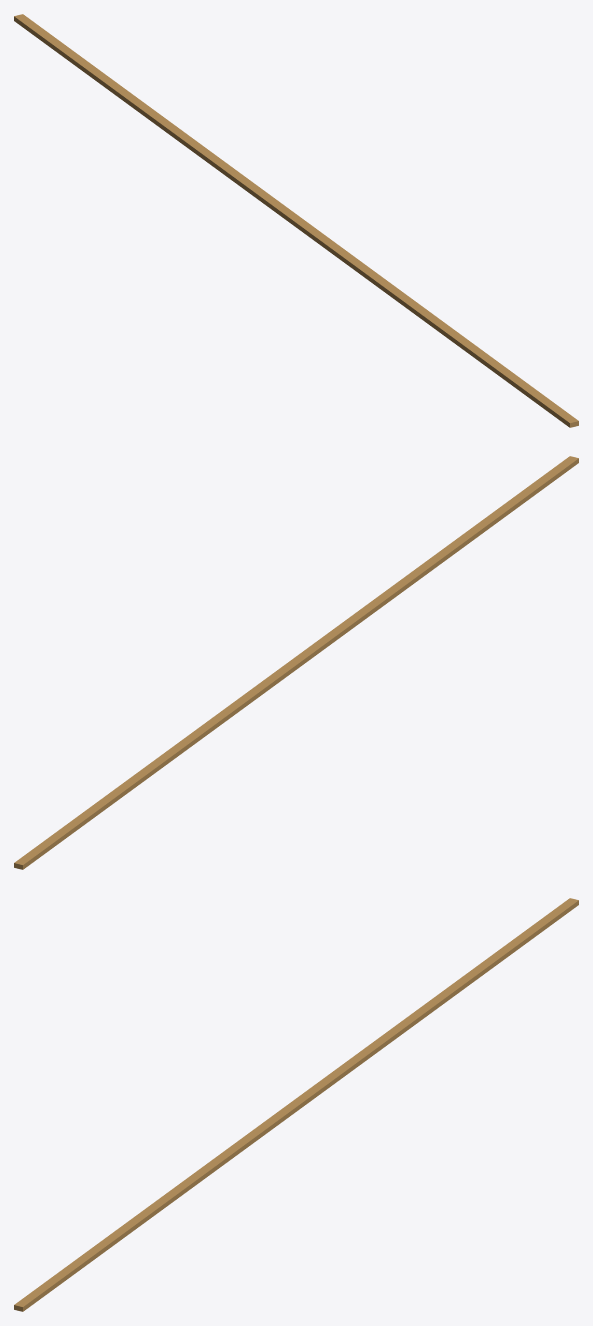
3 views of the same model, one above another, from view 1: azimuth 30°, elevation 25°; view 2: azimuth 150°, elevation 25°; view 3: azimuth 330°, elevation 25° (orthographic).
Visible parts, largest first — view 1: RUN-084-S00-bottom_plate; view 2: RUN-084-S00-bottom_plate; view 3: RUN-084-S00-bottom_plate.
Boxes of the visible parts, <box> form: RUN-084-S00-bottom_plate: <box>14,14,578,427</box>; RUN-084-S00-bottom_plate: <box>14,456,578,869</box>; RUN-084-S00-bottom_plate: <box>14,898,578,1311</box>.
Size of the model in its own units: 0.09 by 0.045 by 9.63.
